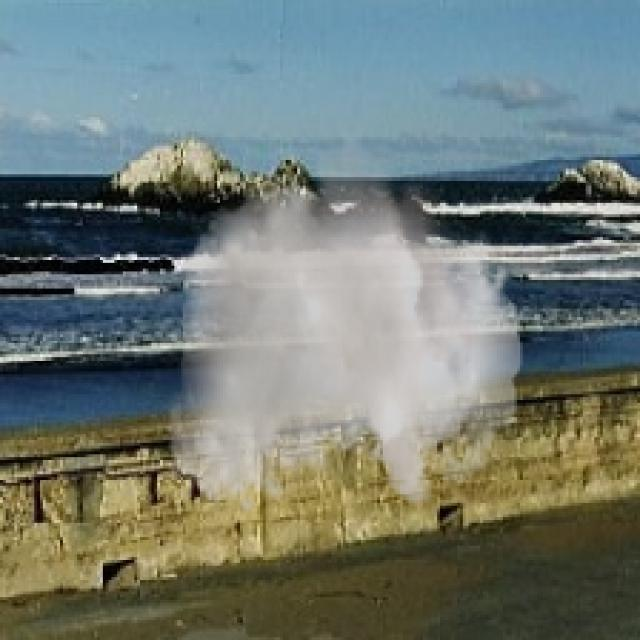smoke: (166, 129, 523, 520)
